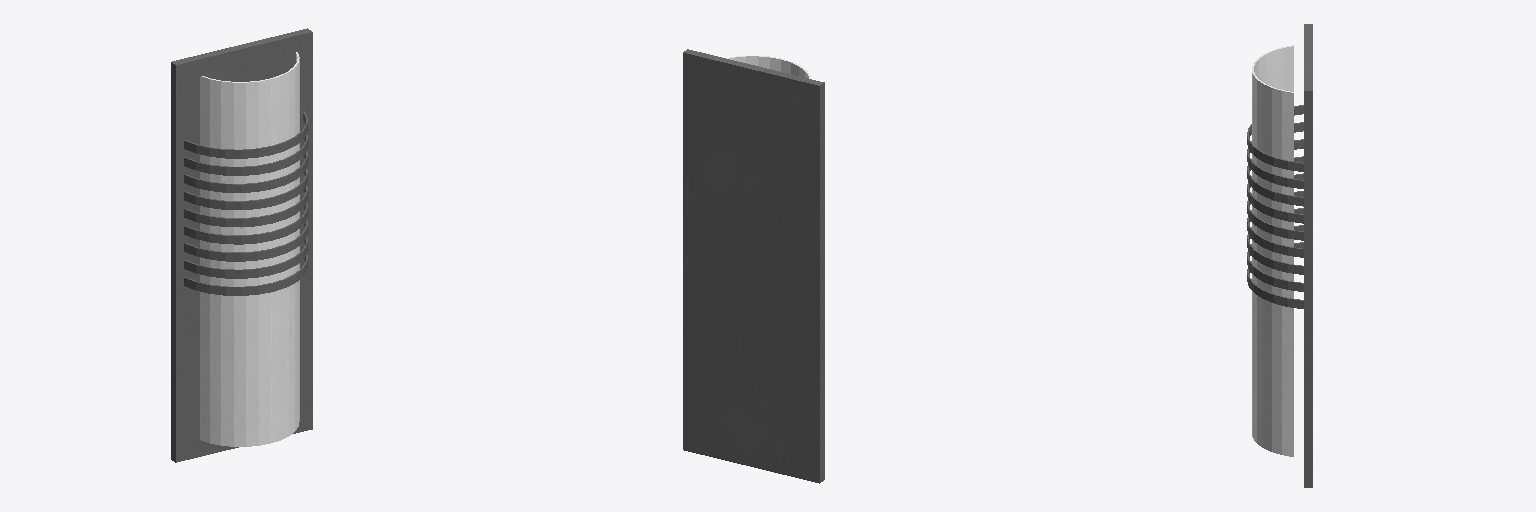
The picture shows the model from 3 angles: view 1: azimuth 30°, elevation 25°; view 2: azimuth 150°, elevation 25°; view 3: azimuth 270°, elevation 25°; orthographic projection.
Parts seen in each view (by area): view 1: group_1, group_0.001, group_2, group_8, group_7, group_9, group_10, group_3, group_6, group_4, group_5; view 2: group_0.001, group_1; view 3: group_1, group_0.001, group_2, group_3, group_4, group_7, group_5, group_6, group_8, group_9, group_10.
Part boxes in pixels (bbox=[...]): group_1: bbox=[200, 52, 299, 446]; group_0.001: bbox=[171, 28, 312, 462]; group_2: bbox=[184, 111, 307, 158]; group_8: bbox=[184, 220, 307, 261]; group_7: bbox=[184, 203, 307, 244]; group_9: bbox=[184, 237, 307, 278]; group_10: bbox=[184, 254, 307, 295]; group_3: bbox=[184, 134, 307, 175]; group_6: bbox=[184, 186, 307, 227]; group_4: bbox=[184, 151, 307, 192]; group_5: bbox=[184, 169, 307, 209]; group_0.001: bbox=[683, 49, 824, 483]; group_1: bbox=[726, 56, 810, 78]; group_1: bbox=[1252, 45, 1293, 456]; group_0.001: bbox=[1304, 24, 1312, 487]; group_2: bbox=[1247, 105, 1303, 171]; group_3: bbox=[1247, 122, 1303, 188]; group_4: bbox=[1247, 139, 1303, 206]; group_7: bbox=[1247, 191, 1303, 257]; group_5: bbox=[1247, 156, 1303, 223]; group_6: bbox=[1247, 173, 1303, 240]; group_8: bbox=[1247, 208, 1303, 274]; group_9: bbox=[1247, 225, 1303, 291]; group_10: bbox=[1247, 242, 1303, 308].
Bounding box in the file's own units: 0.0967 × 0.2683 × 0.0405.
2 materials, 2 textured.